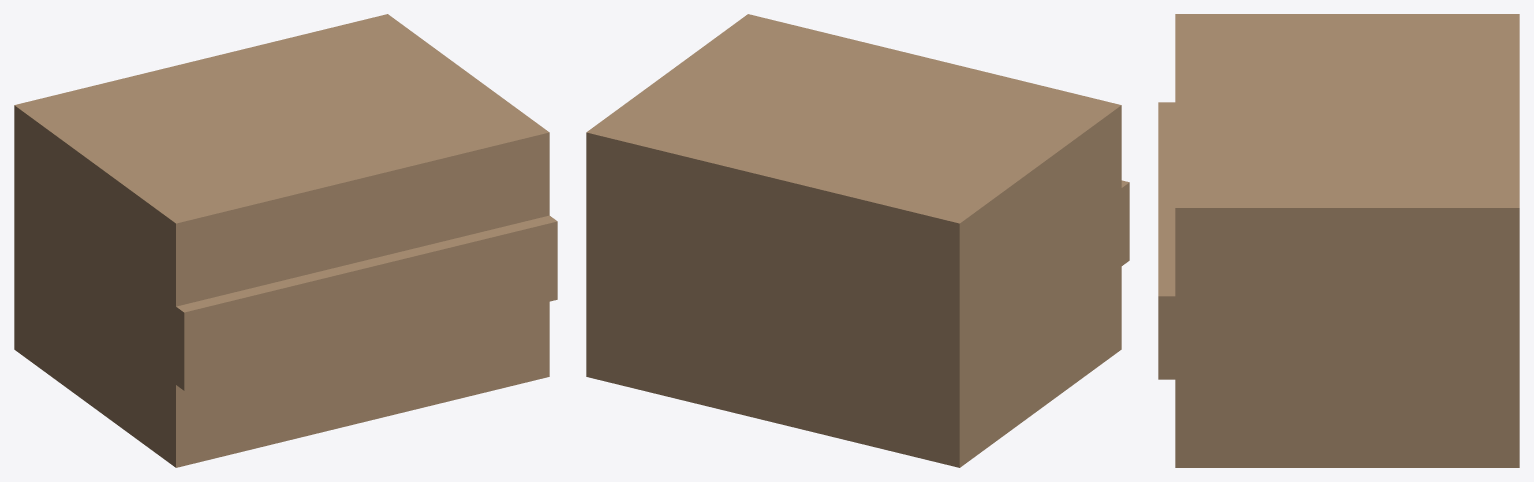
File: harbor_tool_crate.glb
The picture shows the model from 3 angles, left to right: view 1: azimuth 30°, elevation 25°; view 2: azimuth 150°, elevation 25°; view 3: azimuth 270°, elevation 25°; orthographic projection. The views are drawn at different scales.
Parts seen in each view (by area): view 1: crate, slat; view 2: crate, slat; view 3: crate, slat.
Part boxes in pixels (x1=…): crate: x1=14, y1=14, x2=549, y2=467; slat: x1=175, y1=215, x2=557, y2=390; crate: x1=586, y1=14, x2=1121, y2=467; slat: x1=1119, y1=180, x2=1129, y2=267; crate: x1=1175, y1=14, x2=1519, y2=467; slat: x1=1158, y1=102, x2=1181, y2=379.
Bounding box in the file's own units: 0.7998 × 0.5 × 0.6301.
